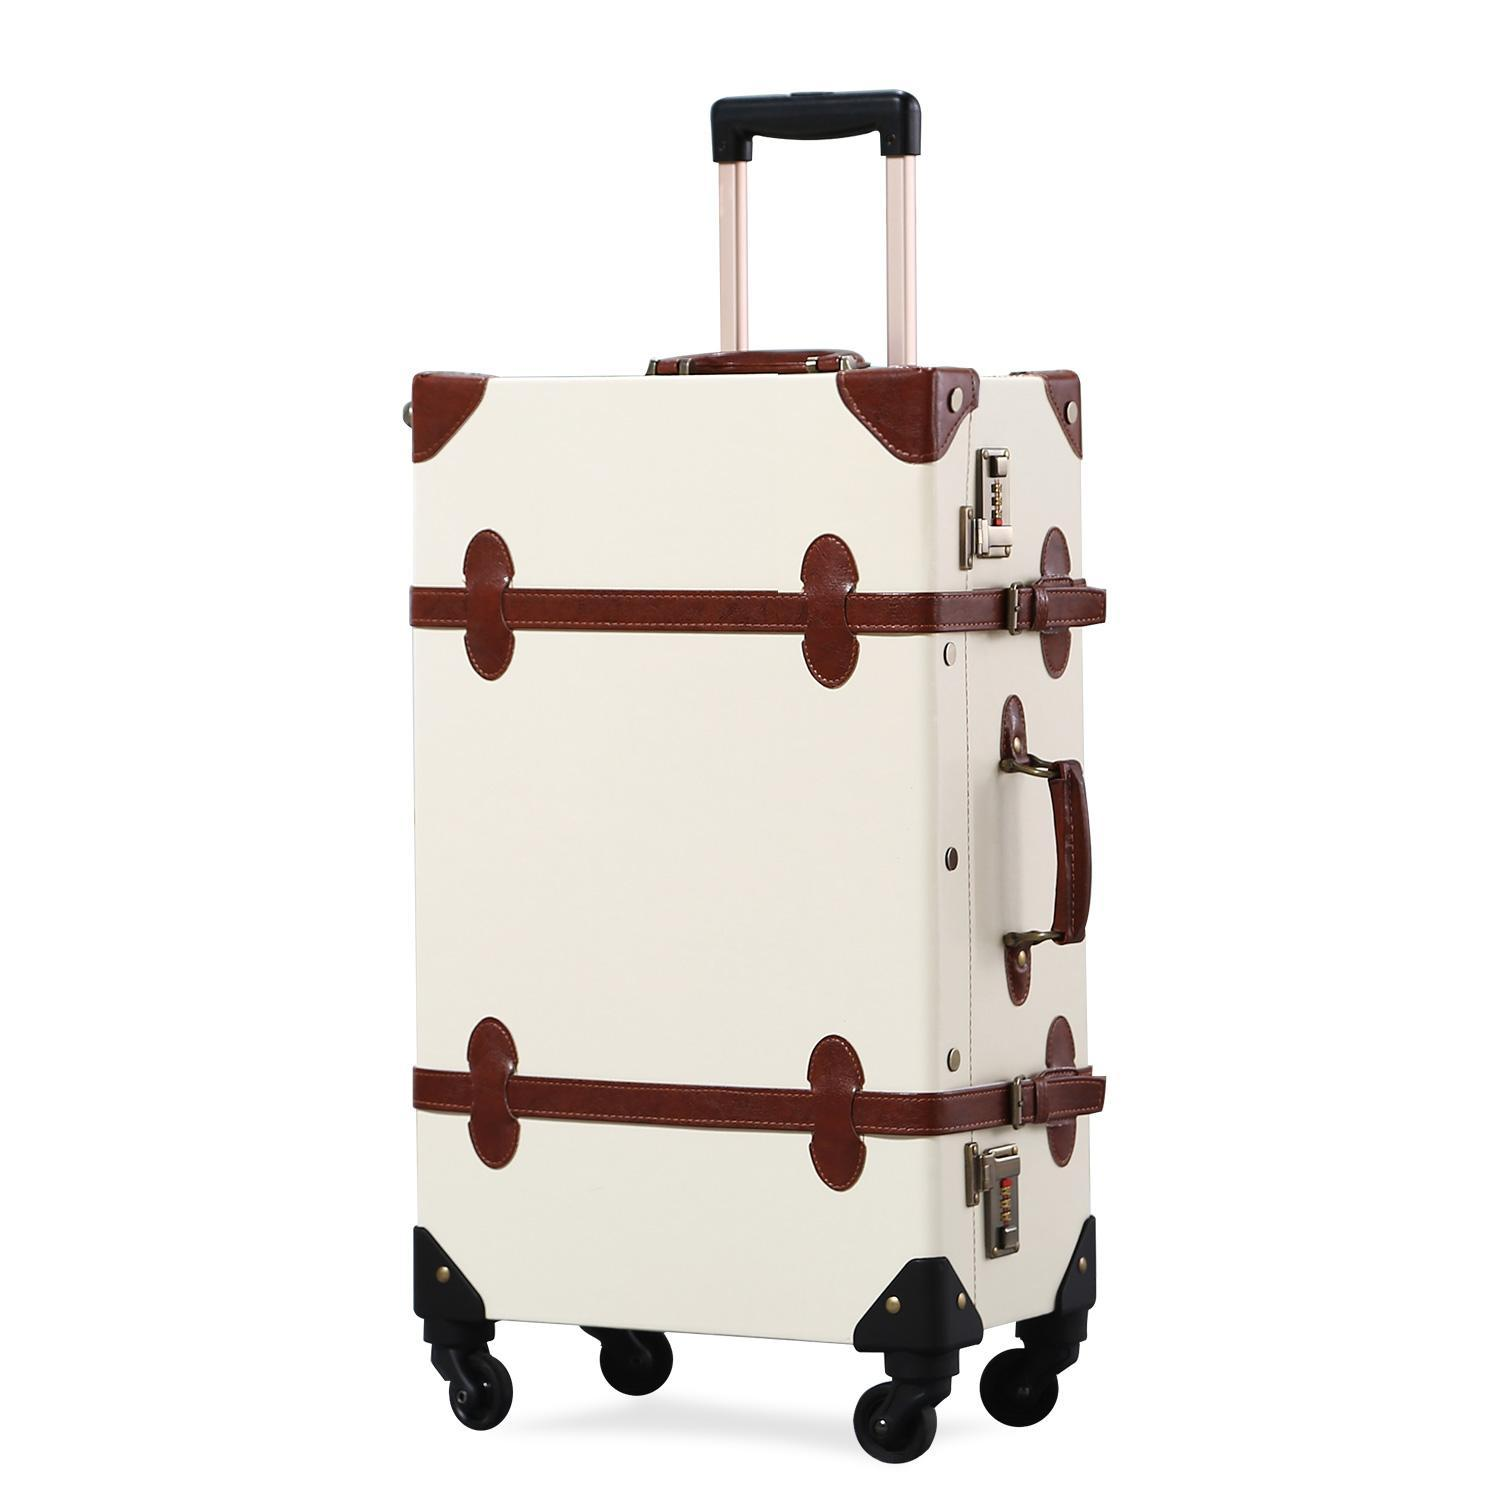suitcase: (394, 343, 1103, 1352)
